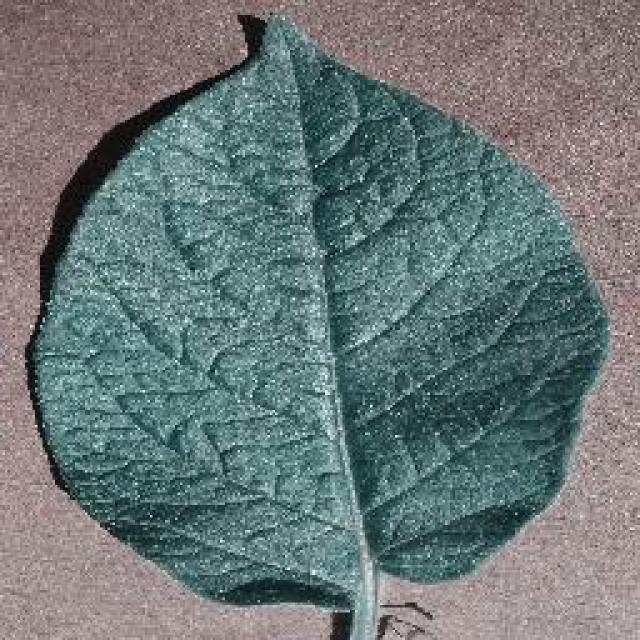Potato___healthy: (23, 4, 617, 638)
